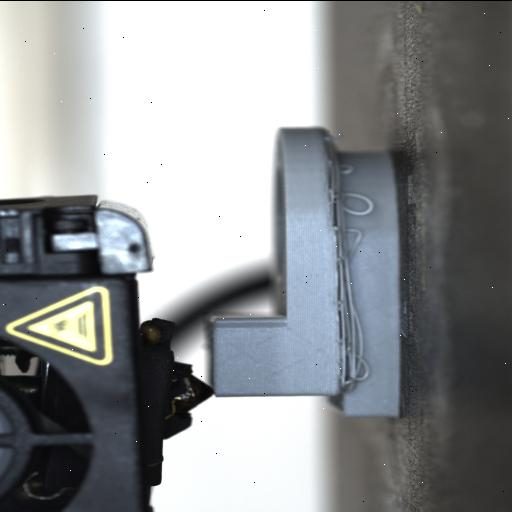layer_shift: (322, 124, 348, 416)
